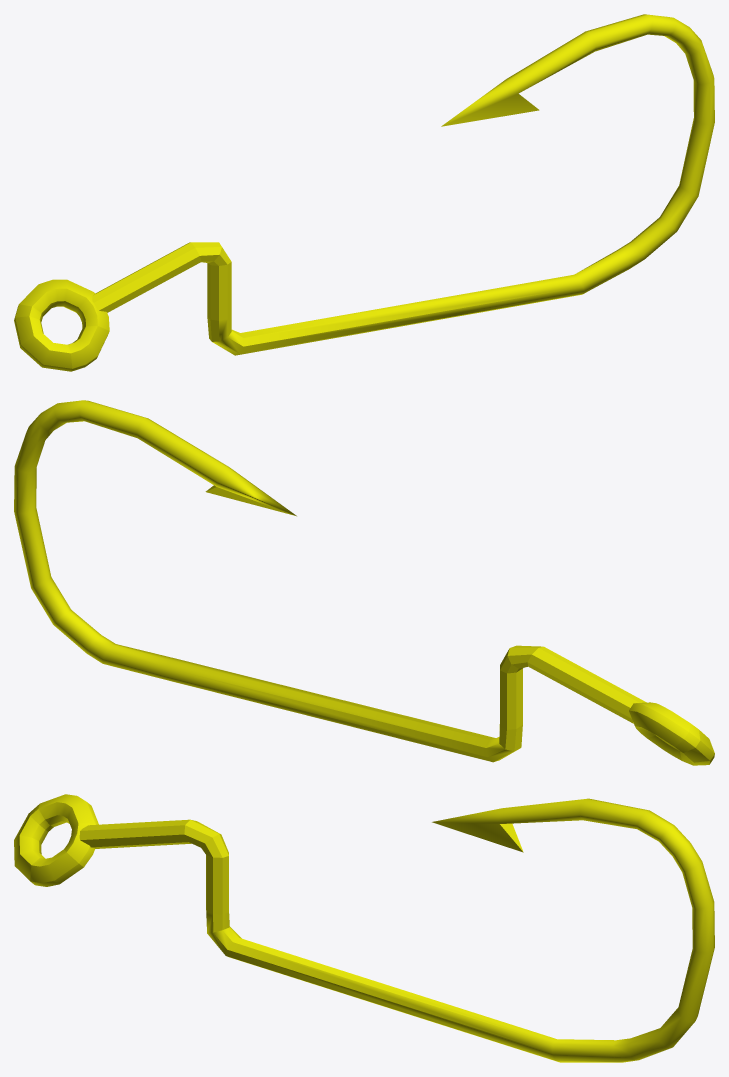
File: Rig_NoSinker_Verved_L.fbx
3 views of the same model, one above another, from view 1: azimuth 30°, elevation 25°; view 2: azimuth 150°, elevation 25°; view 3: azimuth 330°, elevation 25° (orthographic). The views are drawn at different scales.
Visible parts, largest first — view 1: polySurface323; view 2: polySurface323; view 3: polySurface323.
Boxes of the visible parts, x1,y1,x2,y2 form: polySurface323: [14, 14, 714, 371]; polySurface323: [14, 400, 714, 765]; polySurface323: [14, 794, 714, 1062].
Bounding box in the file's own units: 0.2519 × 0.0899 × 0.0252.
